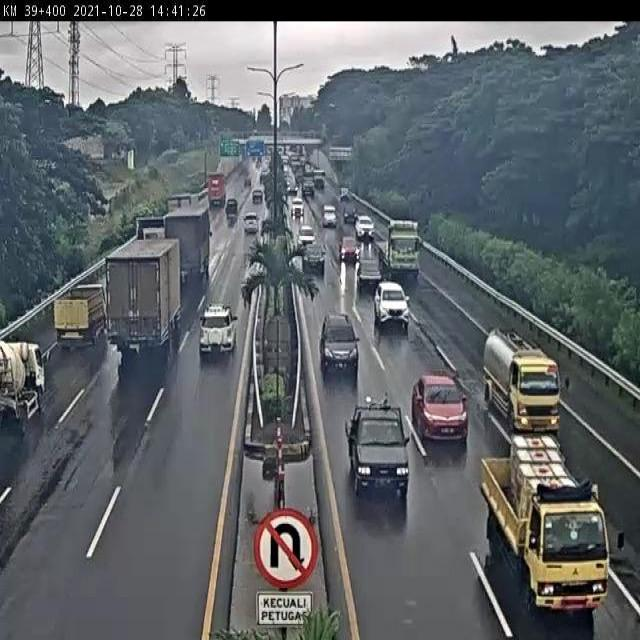big truck: (125, 213, 167, 263)
car: (345, 396, 410, 496), (410, 374, 469, 442), (319, 313, 359, 375), (199, 303, 237, 353), (374, 281, 410, 328), (355, 258, 382, 294), (302, 244, 325, 276)
mid truck: (105, 237, 182, 347), (165, 205, 212, 275)
small truck: (51, 283, 107, 345)
truck-m-: (477, 433, 616, 618), (482, 326, 562, 434)
